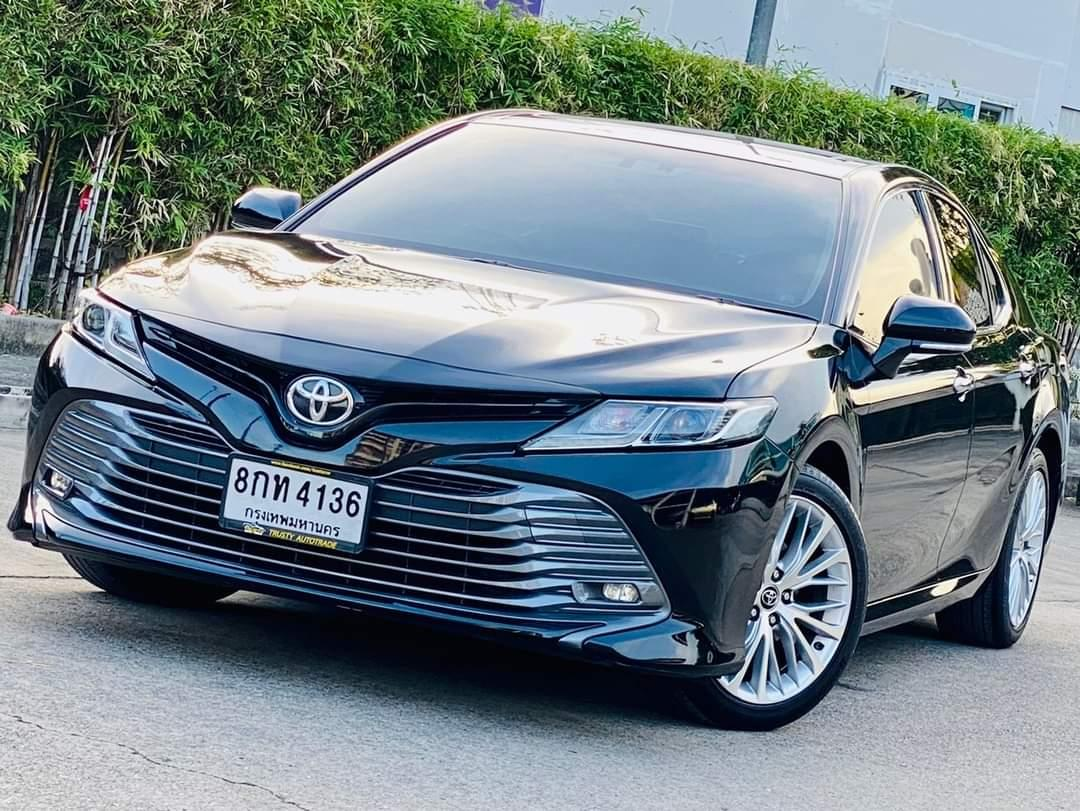license-plate: (214, 449, 376, 562)
